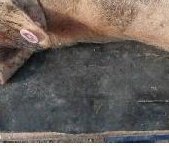text: (12, 20, 49, 52)
